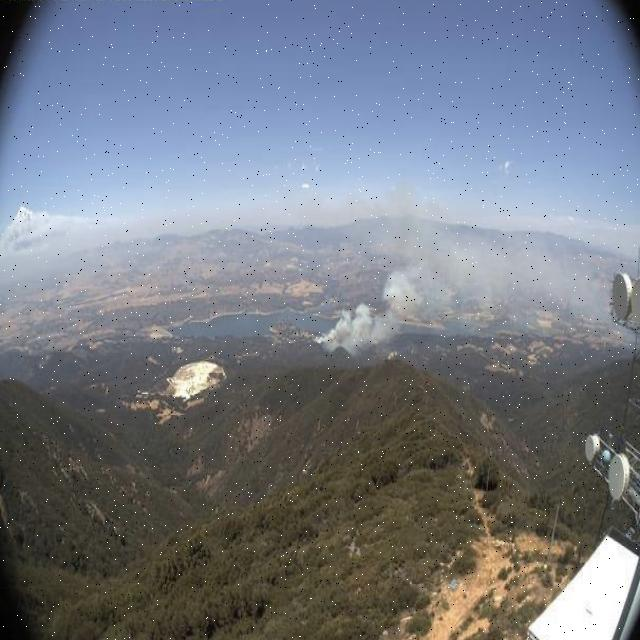smoke: (308, 226, 598, 355)
